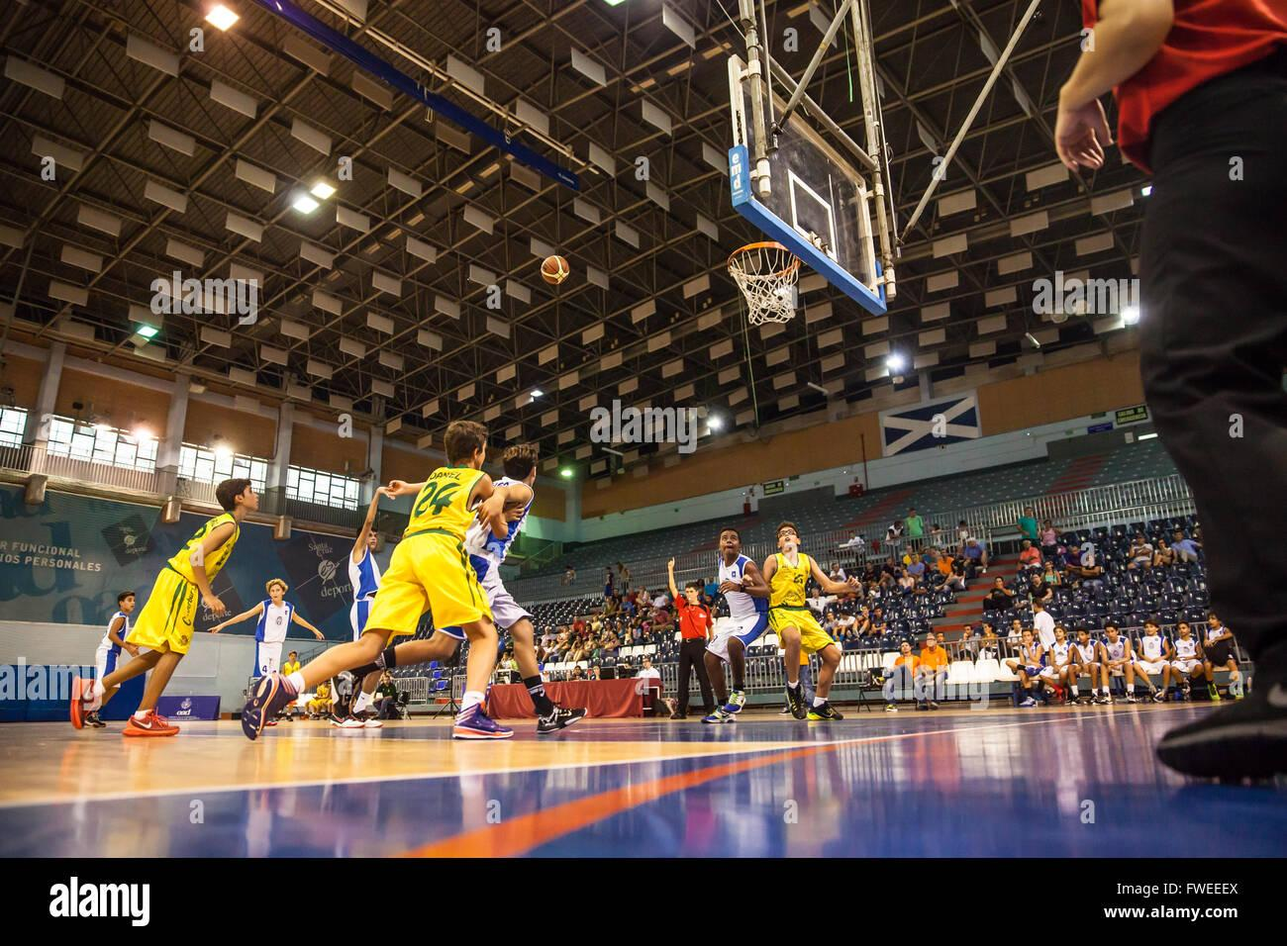basketball: (537, 242, 571, 284)
